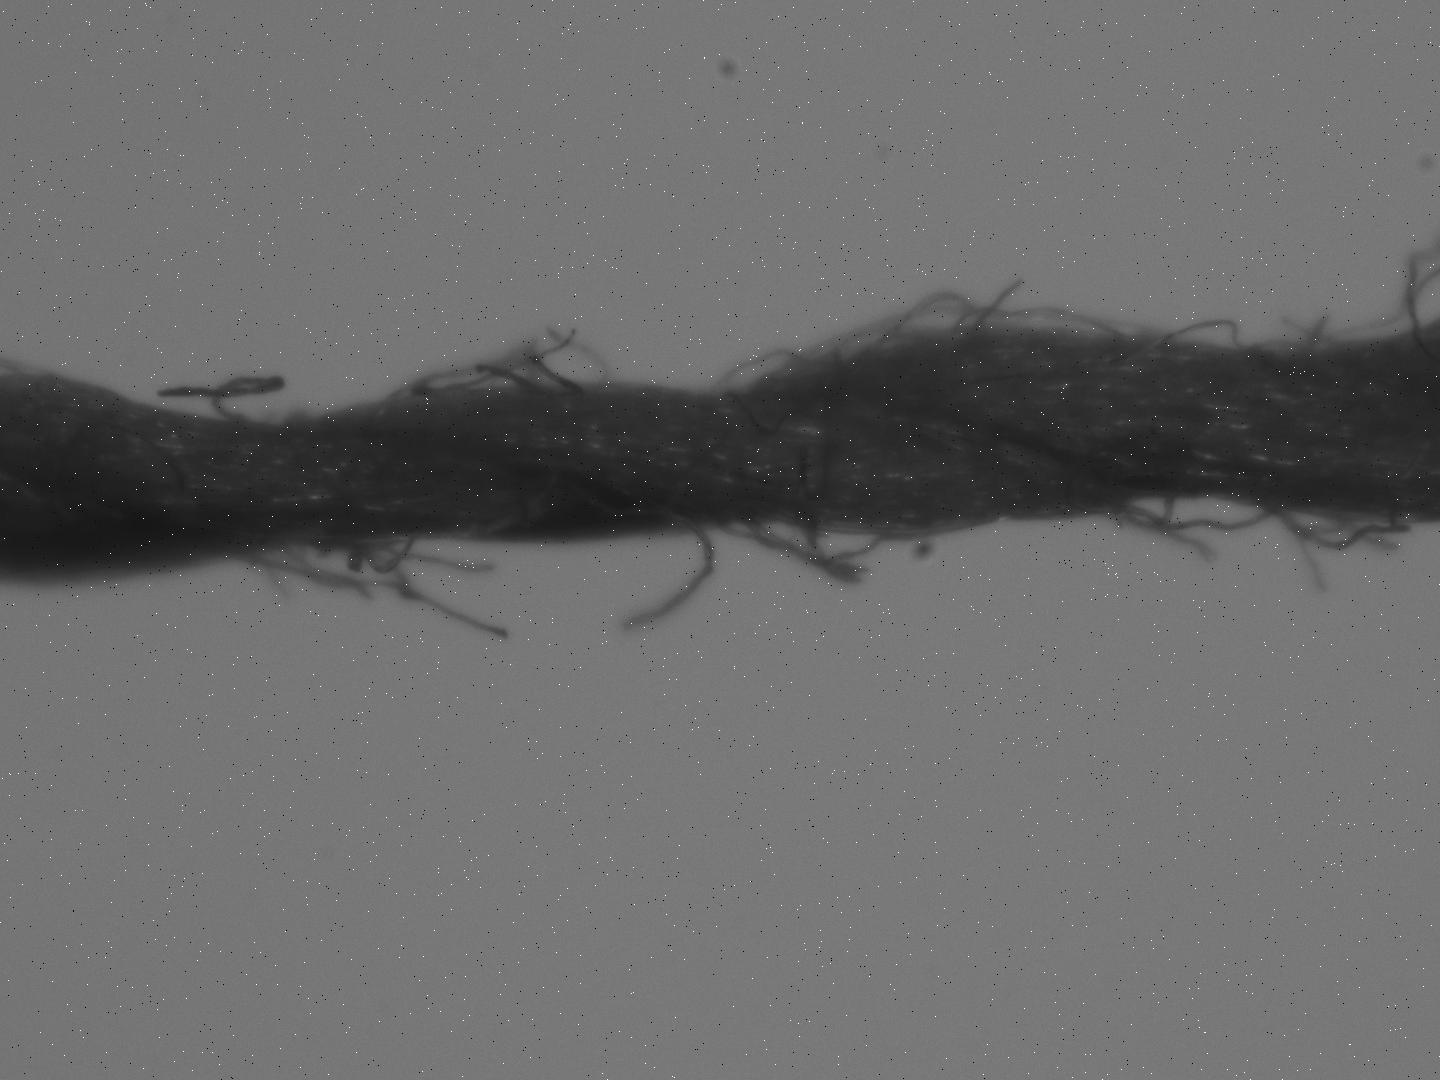loop_fiber: (702, 239, 1439, 397), (371, 329, 609, 411), (1106, 493, 1415, 551), (209, 532, 422, 602), (712, 518, 891, 589)
protruding_fiber: (375, 532, 522, 641), (610, 512, 718, 635), (147, 371, 294, 432), (356, 538, 506, 575), (1277, 511, 1331, 601)
